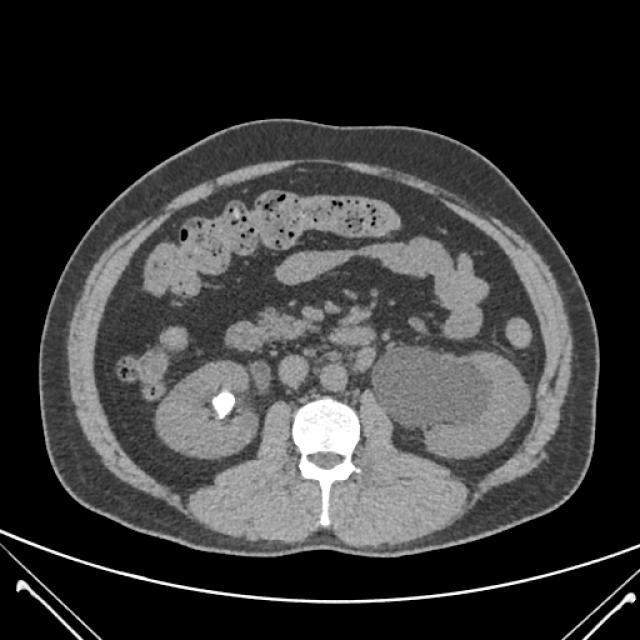kidneystone: (212, 391, 236, 418)
